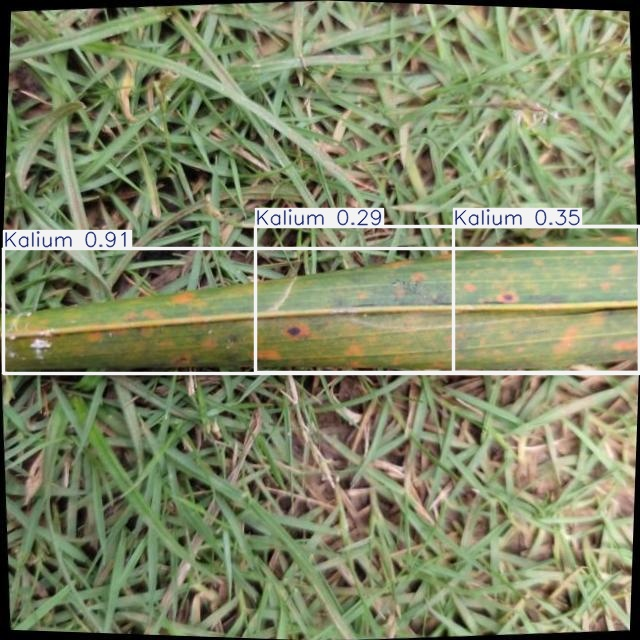Kalium: (4, 249, 640, 374), (255, 226, 640, 372), (453, 226, 640, 372)
